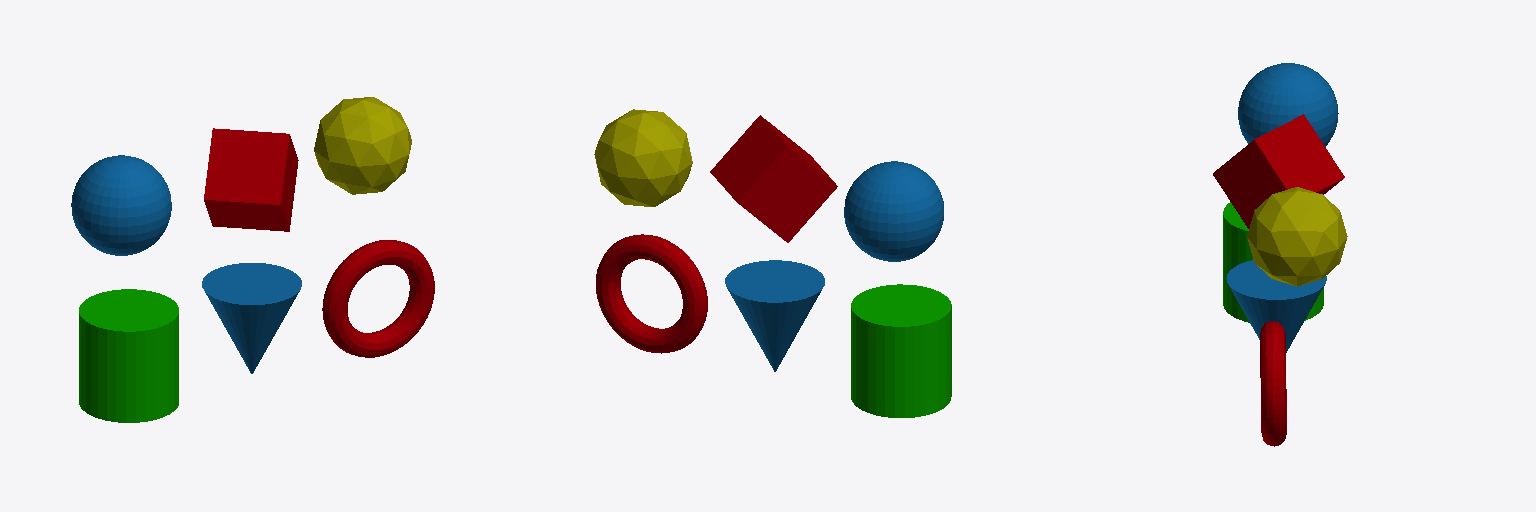
File: taccgldoc.obj
3 renders of one model, left to right at view 1: azimuth 30°, elevation 25°; view 2: azimuth 150°, elevation 25°; view 3: azimuth 270°, elevation 25°, orthographic.
Parts seen in each view (by area): view 1: Cylinder, Cube, Sphere, Icosphere, Torus, Cone; view 2: Cylinder, Cube, Sphere, Icosphere, Torus, Cone; view 3: Icosphere, Cube, Sphere, Cone, Torus, Cylinder.
Part boxes in pixels (left/top/right/bottom): Cylinder: left=79, top=289, right=178, bottom=422; Cube: left=204, top=128, right=298, bottom=231; Sphere: left=71, top=155, right=171, bottom=255; Icosphere: left=314, top=97, right=411, bottom=194; Torus: left=322, top=240, right=434, bottom=357; Cone: left=202, top=263, right=301, bottom=373; Cylinder: left=851, top=284, right=951, bottom=417; Cube: left=710, top=115, right=837, bottom=242; Sphere: left=844, top=161, right=943, bottom=261; Icosphere: left=594, top=109, right=692, bottom=206; Torus: left=596, top=234, right=707, bottom=353; Cone: left=725, top=260, right=824, bottom=371; Icosphere: left=1247, top=187, right=1347, bottom=286; Cube: left=1213, top=114, right=1344, bottom=228; Sphere: left=1238, top=63, right=1338, bottom=146; Cone: left=1226, top=260, right=1326, bottom=352; Torus: left=1260, top=321, right=1286, bottom=446; Cylinder: left=1223, top=202, right=1323, bottom=322.
Bounding box in the file's own units: 7.97 × 5.54 × 2.69.